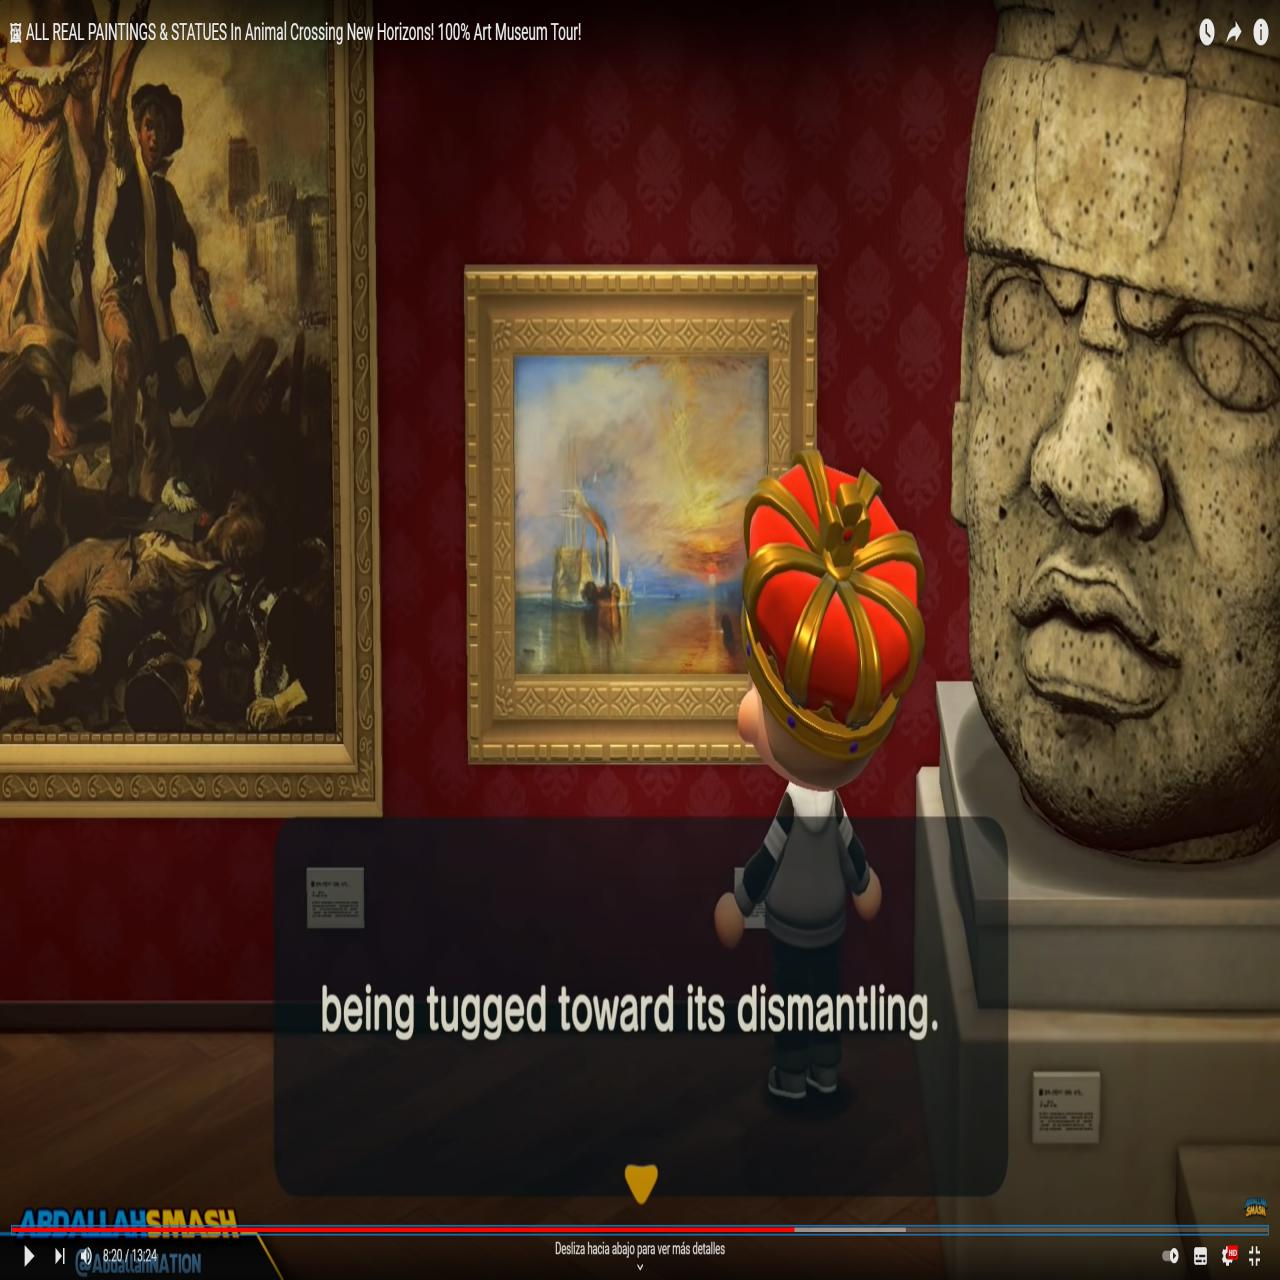FightingTemeraire: (515, 359, 765, 672)
LibertyLeading: (1, 1, 336, 726)
OlmecaHead: (949, 1, 1280, 877)
